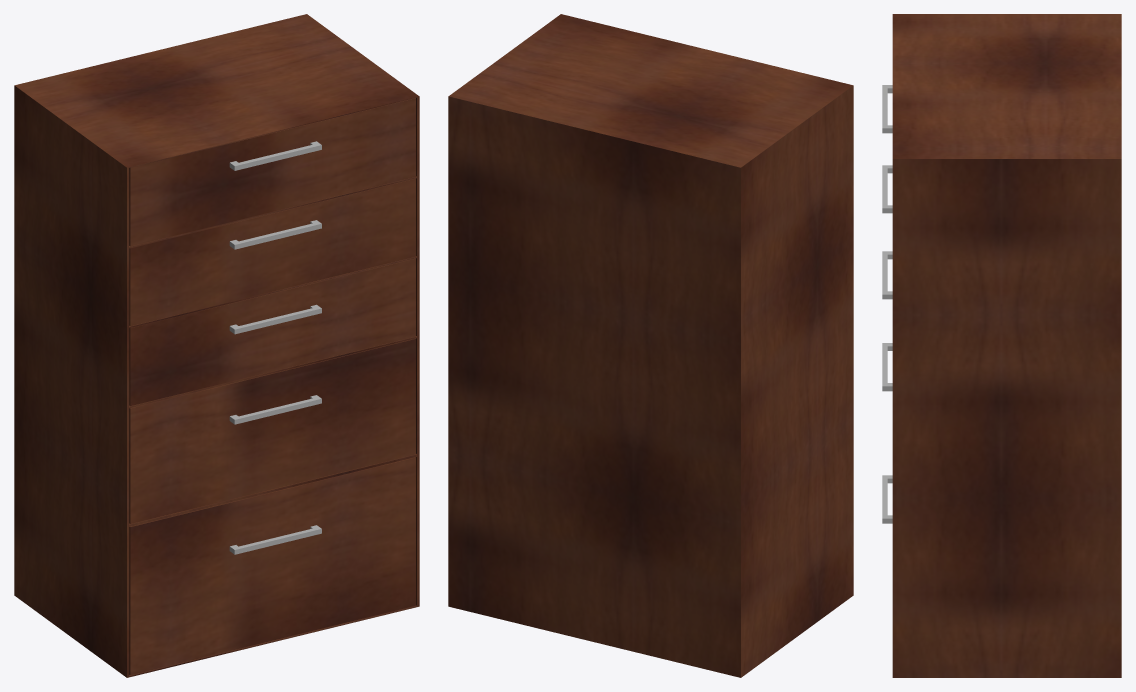
Rendered from Drawer_FBX.fbx.
The picture shows the model from 3 angles, left to right: view 1: azimuth 30°, elevation 25°; view 2: azimuth 150°, elevation 25°; view 3: azimuth 270°, elevation 25°; orthographic projection.
Parts seen in each view (by area): view 1: polySurface1; view 2: polySurface1; view 3: polySurface1.
Part boxes in pixels (x1,y1,x2,y2): polySurface1: [14, 14, 419, 677]; polySurface1: [448, 14, 853, 677]; polySurface1: [882, 14, 1121, 677].
Bounding box in the file's own units: 6 × 10 × 4.18.
